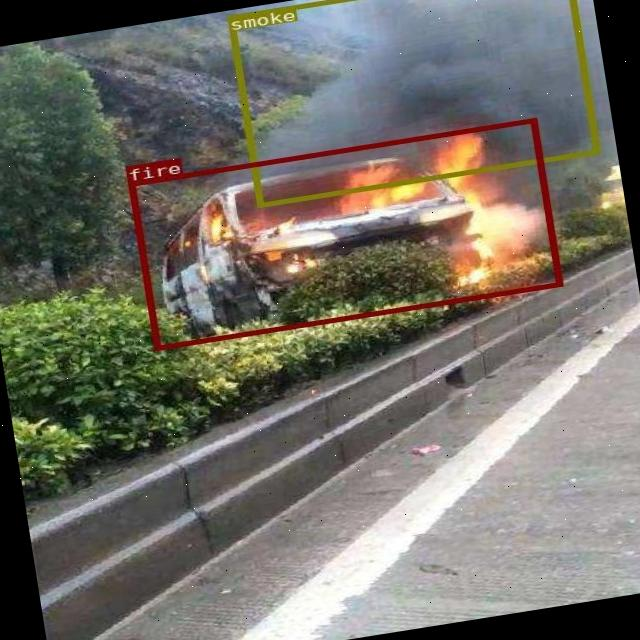fire: (126, 116, 562, 350)
smoke: (227, 0, 599, 207)
